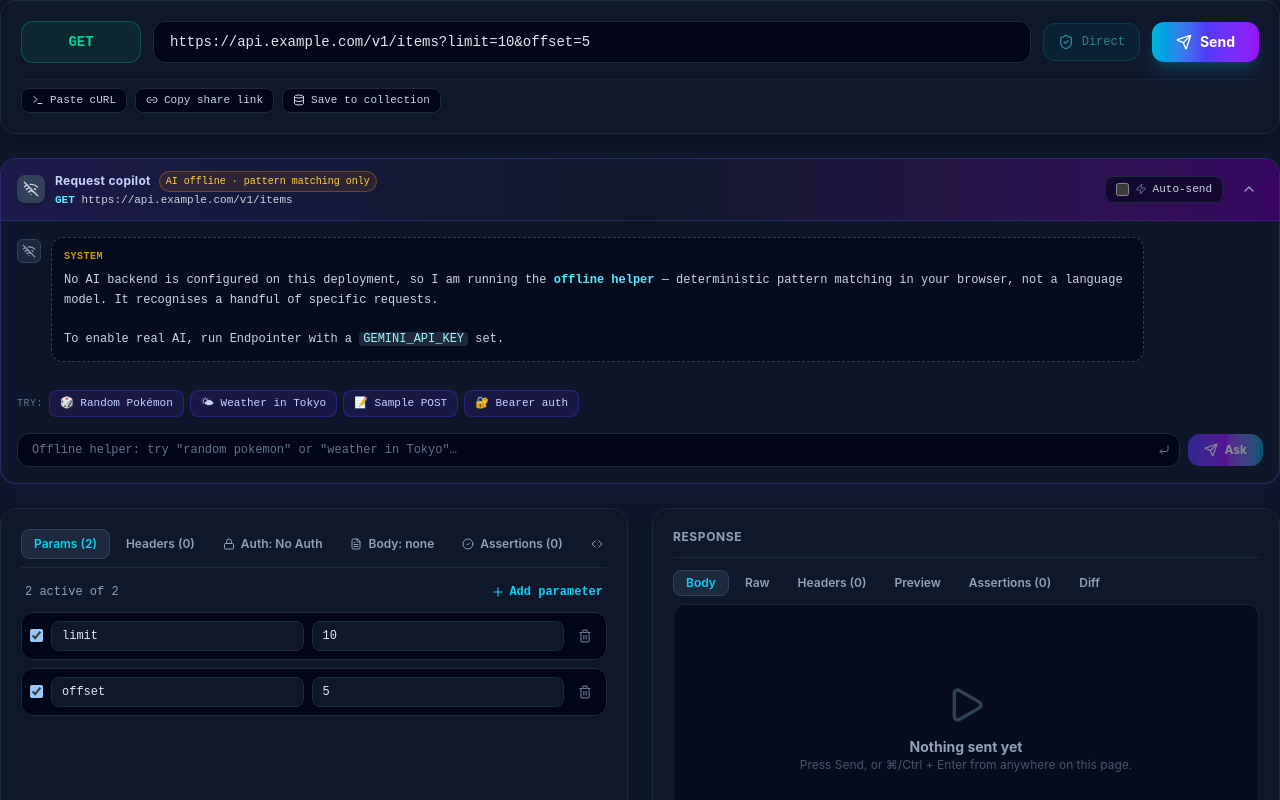
Test: Playground URL and params stay in sync › parses a query string typed into the URL bar into the params table
Replace the text in the field named "Request URL" with "https://api.example.com/search?q=hello": (592, 42) [153,21,1031,63]
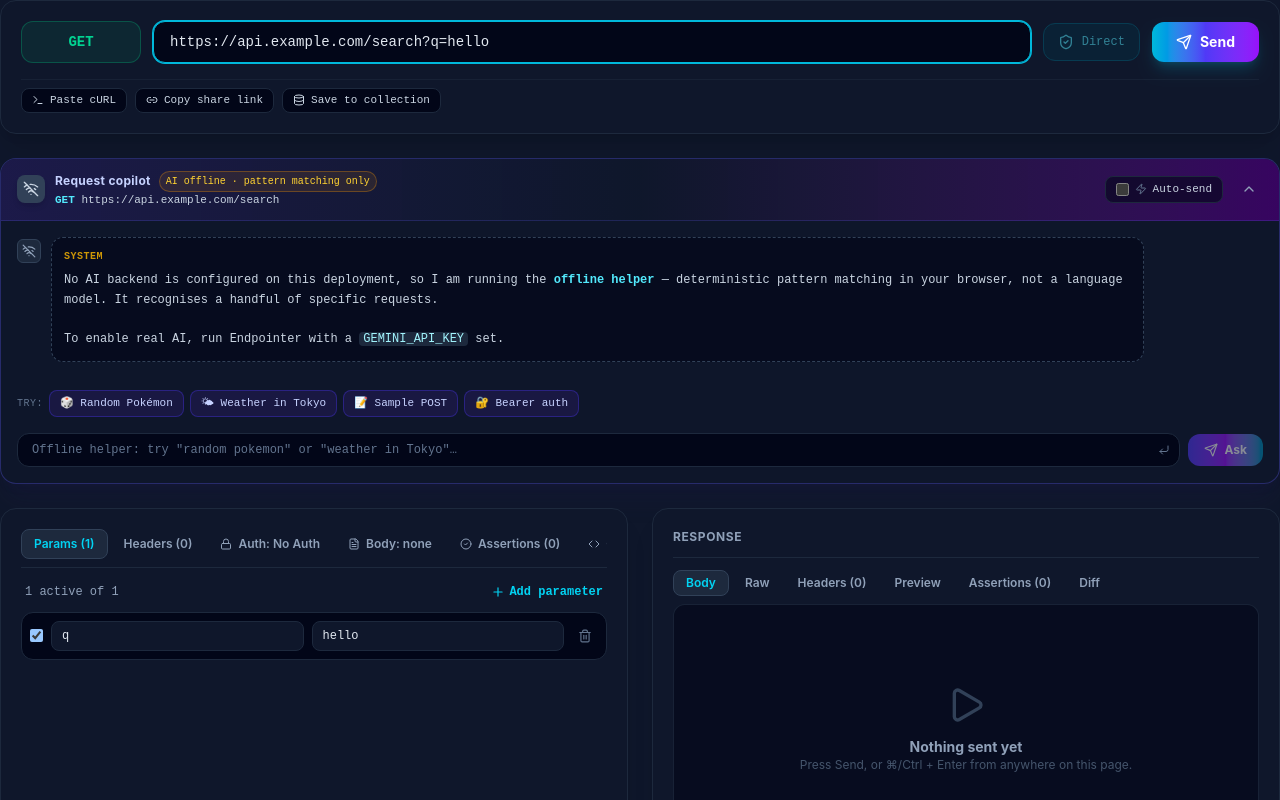
Expected: the field showing "q" is shown, [51,621,304,651]
Expected: the field showing "hello" is shown, [312,621,564,651]
